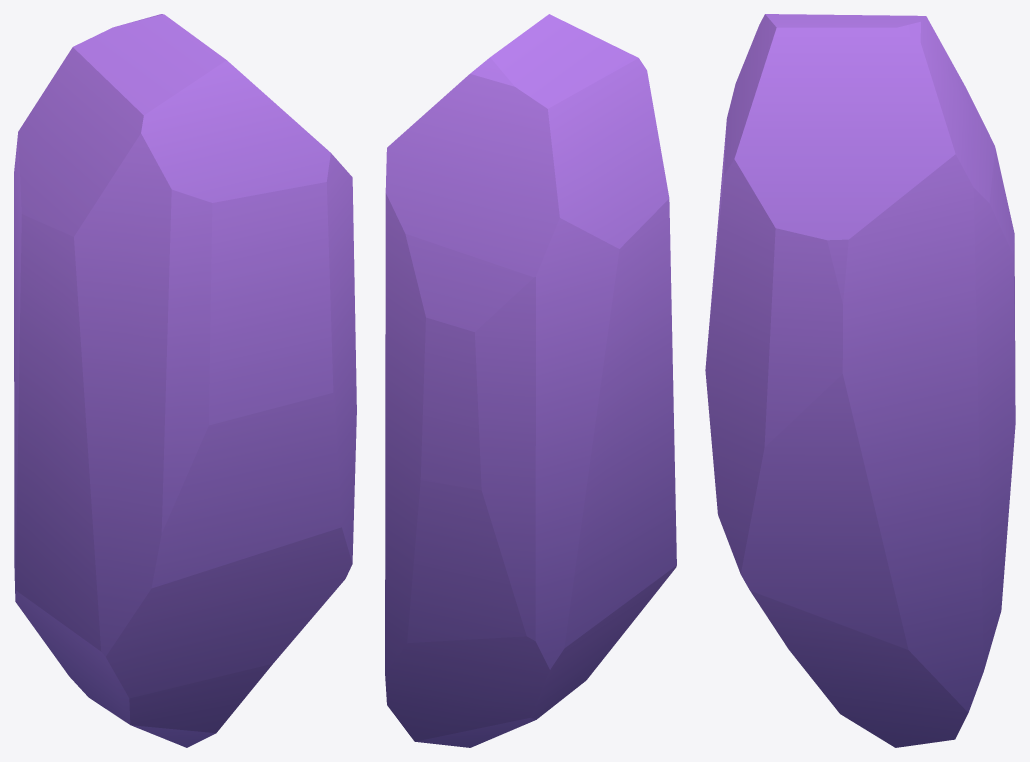
File: Crystal_P_27.glb
3 renders of one model, left to right at view 1: azimuth 30°, elevation 25°; view 2: azimuth 150°, elevation 25°; view 3: azimuth 270°, elevation 25°, orthographic. The views are drawn at different scales.
Visible parts, largest first — view 1: crystal_27; view 2: crystal_27; view 3: crystal_27.
Boxes of the visible parts, x1=… form: crystal_27: x1=14, y1=14, x2=356, y2=747; crystal_27: x1=385, y1=14, x2=676, y2=747; crystal_27: x1=705, y1=14, x2=1015, y2=747.
Bounding box in the file's own units: 0.3896 × 1 × 0.3959.
1 material, 1 textured.
